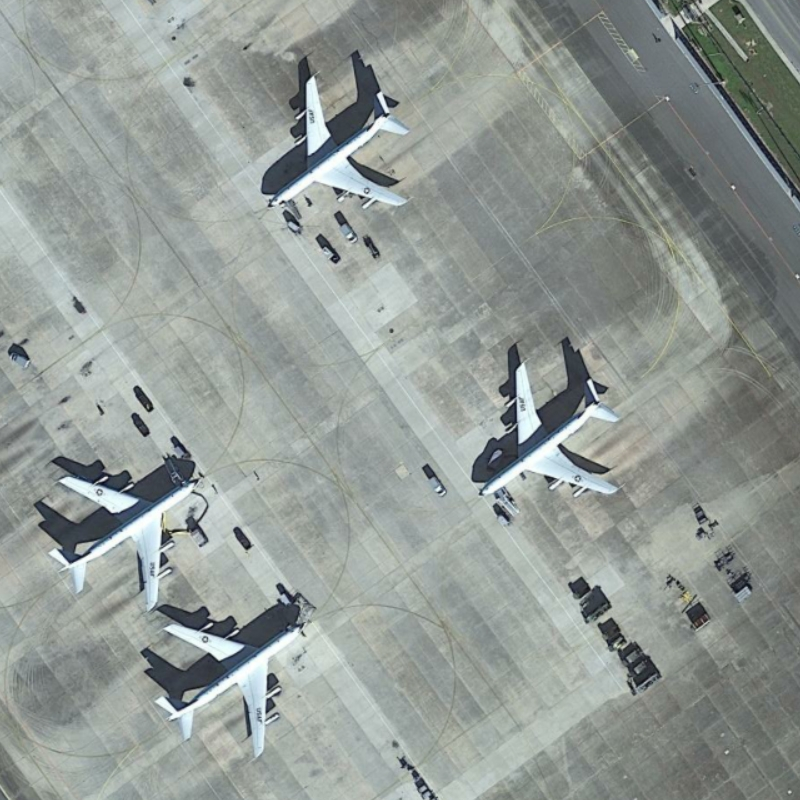A11: (262, 61, 410, 225), (144, 617, 307, 762), (43, 471, 205, 613), (475, 351, 623, 505)
